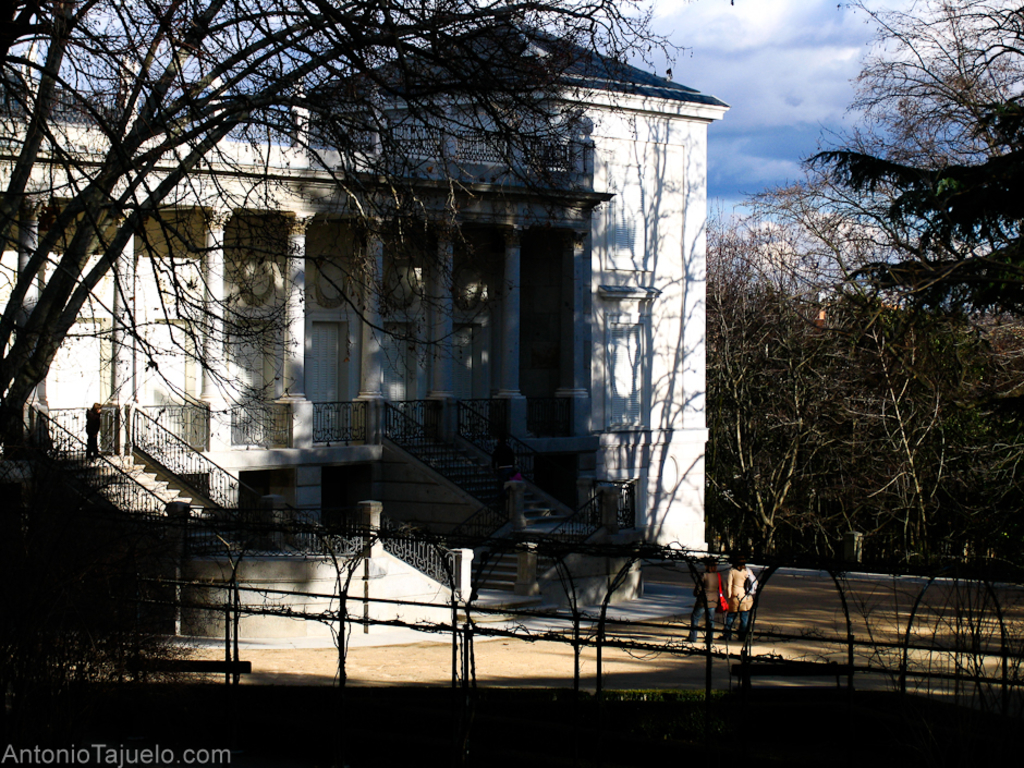Tree: (0, 0, 689, 464), (789, 0, 1022, 766), (693, 175, 982, 589)
